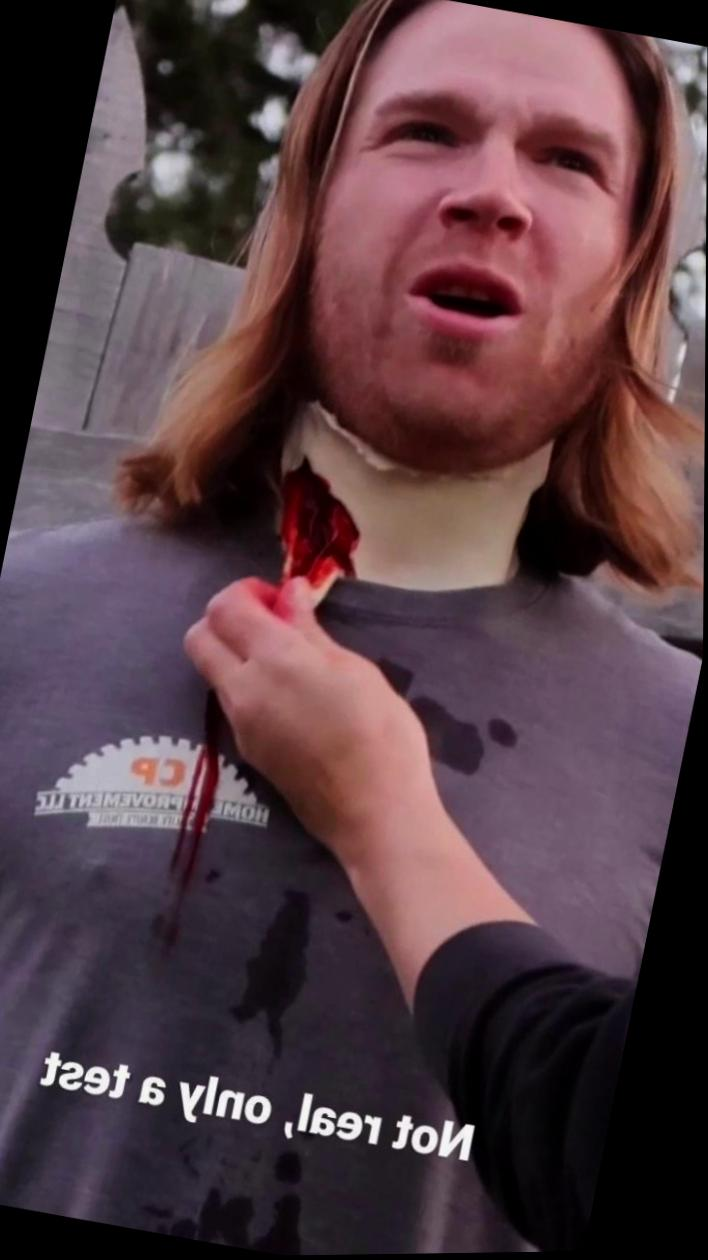Fire: (159, 691, 224, 950), (279, 458, 360, 596)
